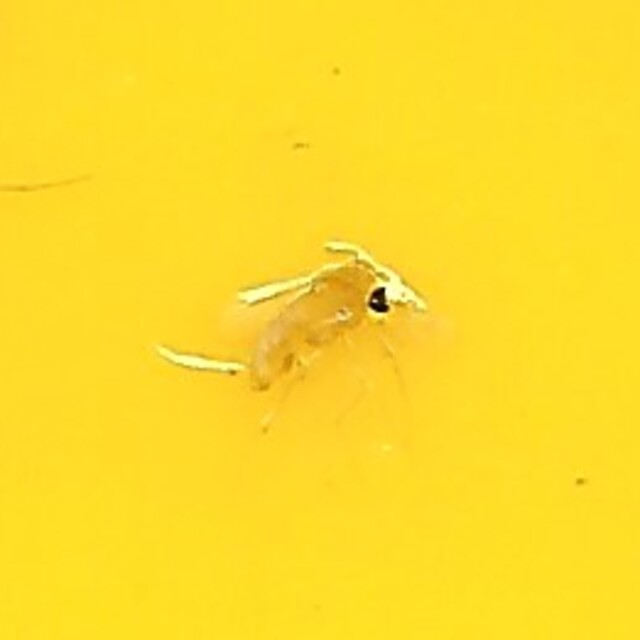Nematocera: (245, 252, 395, 388)
